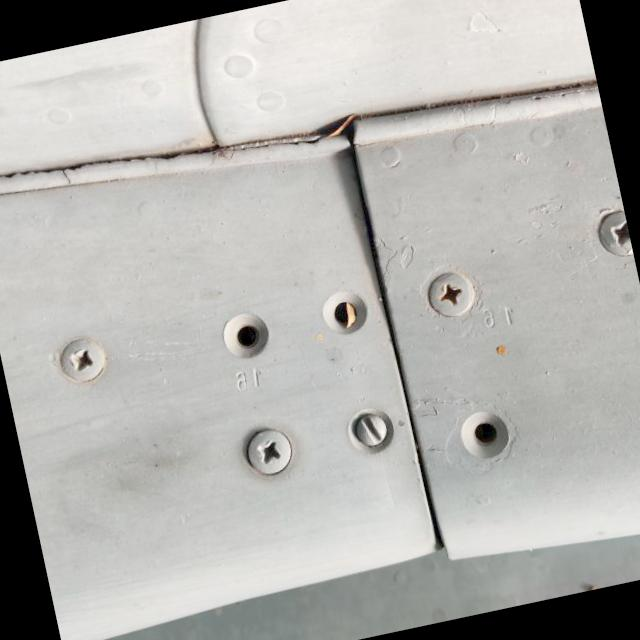Missing Fastener: (440, 396, 526, 478), (214, 306, 278, 368), (316, 284, 370, 342)
